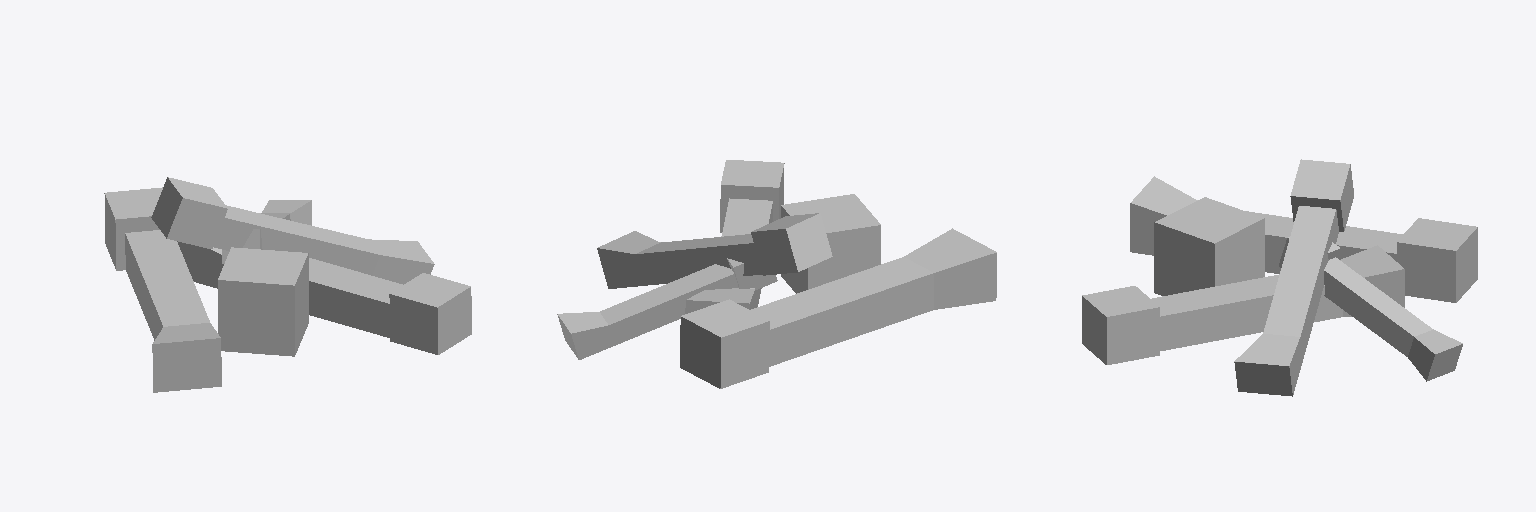
The model's file is bone_dense_2.obj.
The picture shows the model from 3 angles: view 1: azimuth 30°, elevation 25°; view 2: azimuth 150°, elevation 25°; view 3: azimuth 270°, elevation 25°; orthographic projection.
Visible parts, largest first — view 1: cube; view 2: cube; view 3: cube.
Part boxes in pixels (x1,y1,x2,y2): cube: (104,177,471,392); cube: (557,160,996,388); cube: (1082,159,1477,396).
Bounding box in the file's own units: 1.23 × 0.4652 × 1.26.